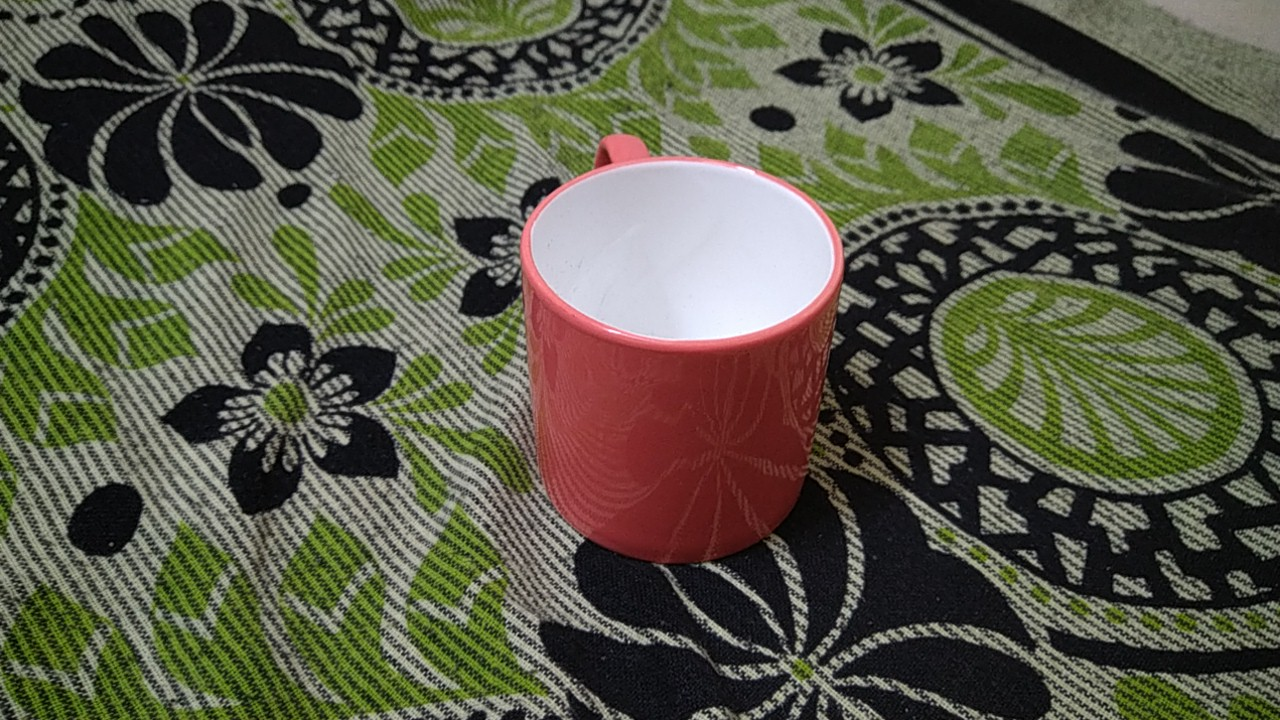cup: (508, 120, 854, 570)
